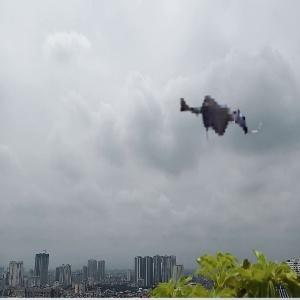drone: (157, 46, 271, 160)
